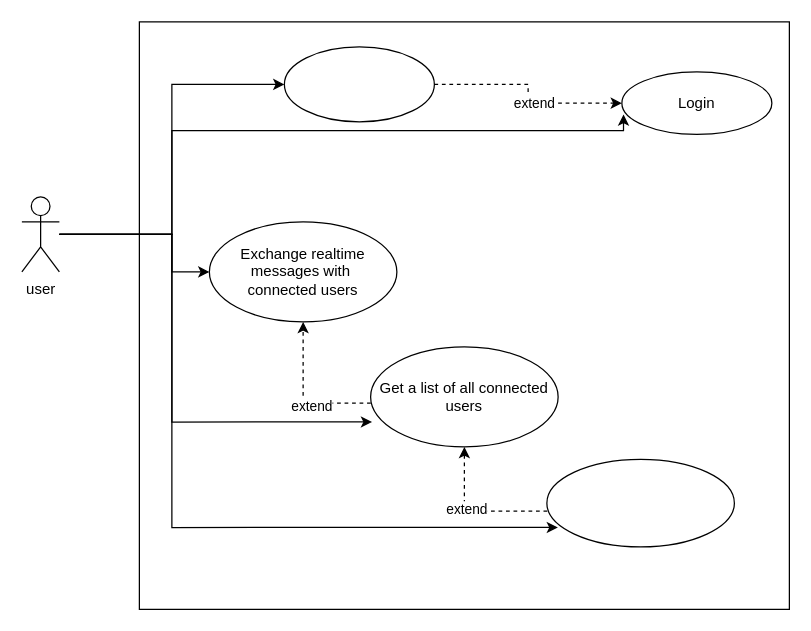
This 811x631 diagram has some shape labels left out. Here are the shapes that lost their labels. From the top down, the centre of each, then its label:
At (358,84): "register".
At (640,502): "Get A list of all users".
